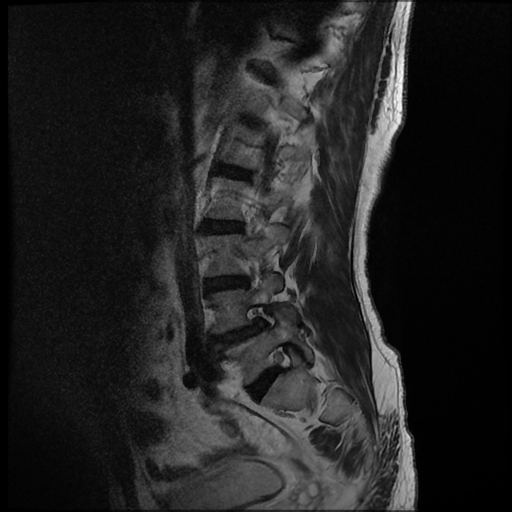RFS0: (259, 340, 297, 385)
RFS1: (239, 295, 282, 338)
